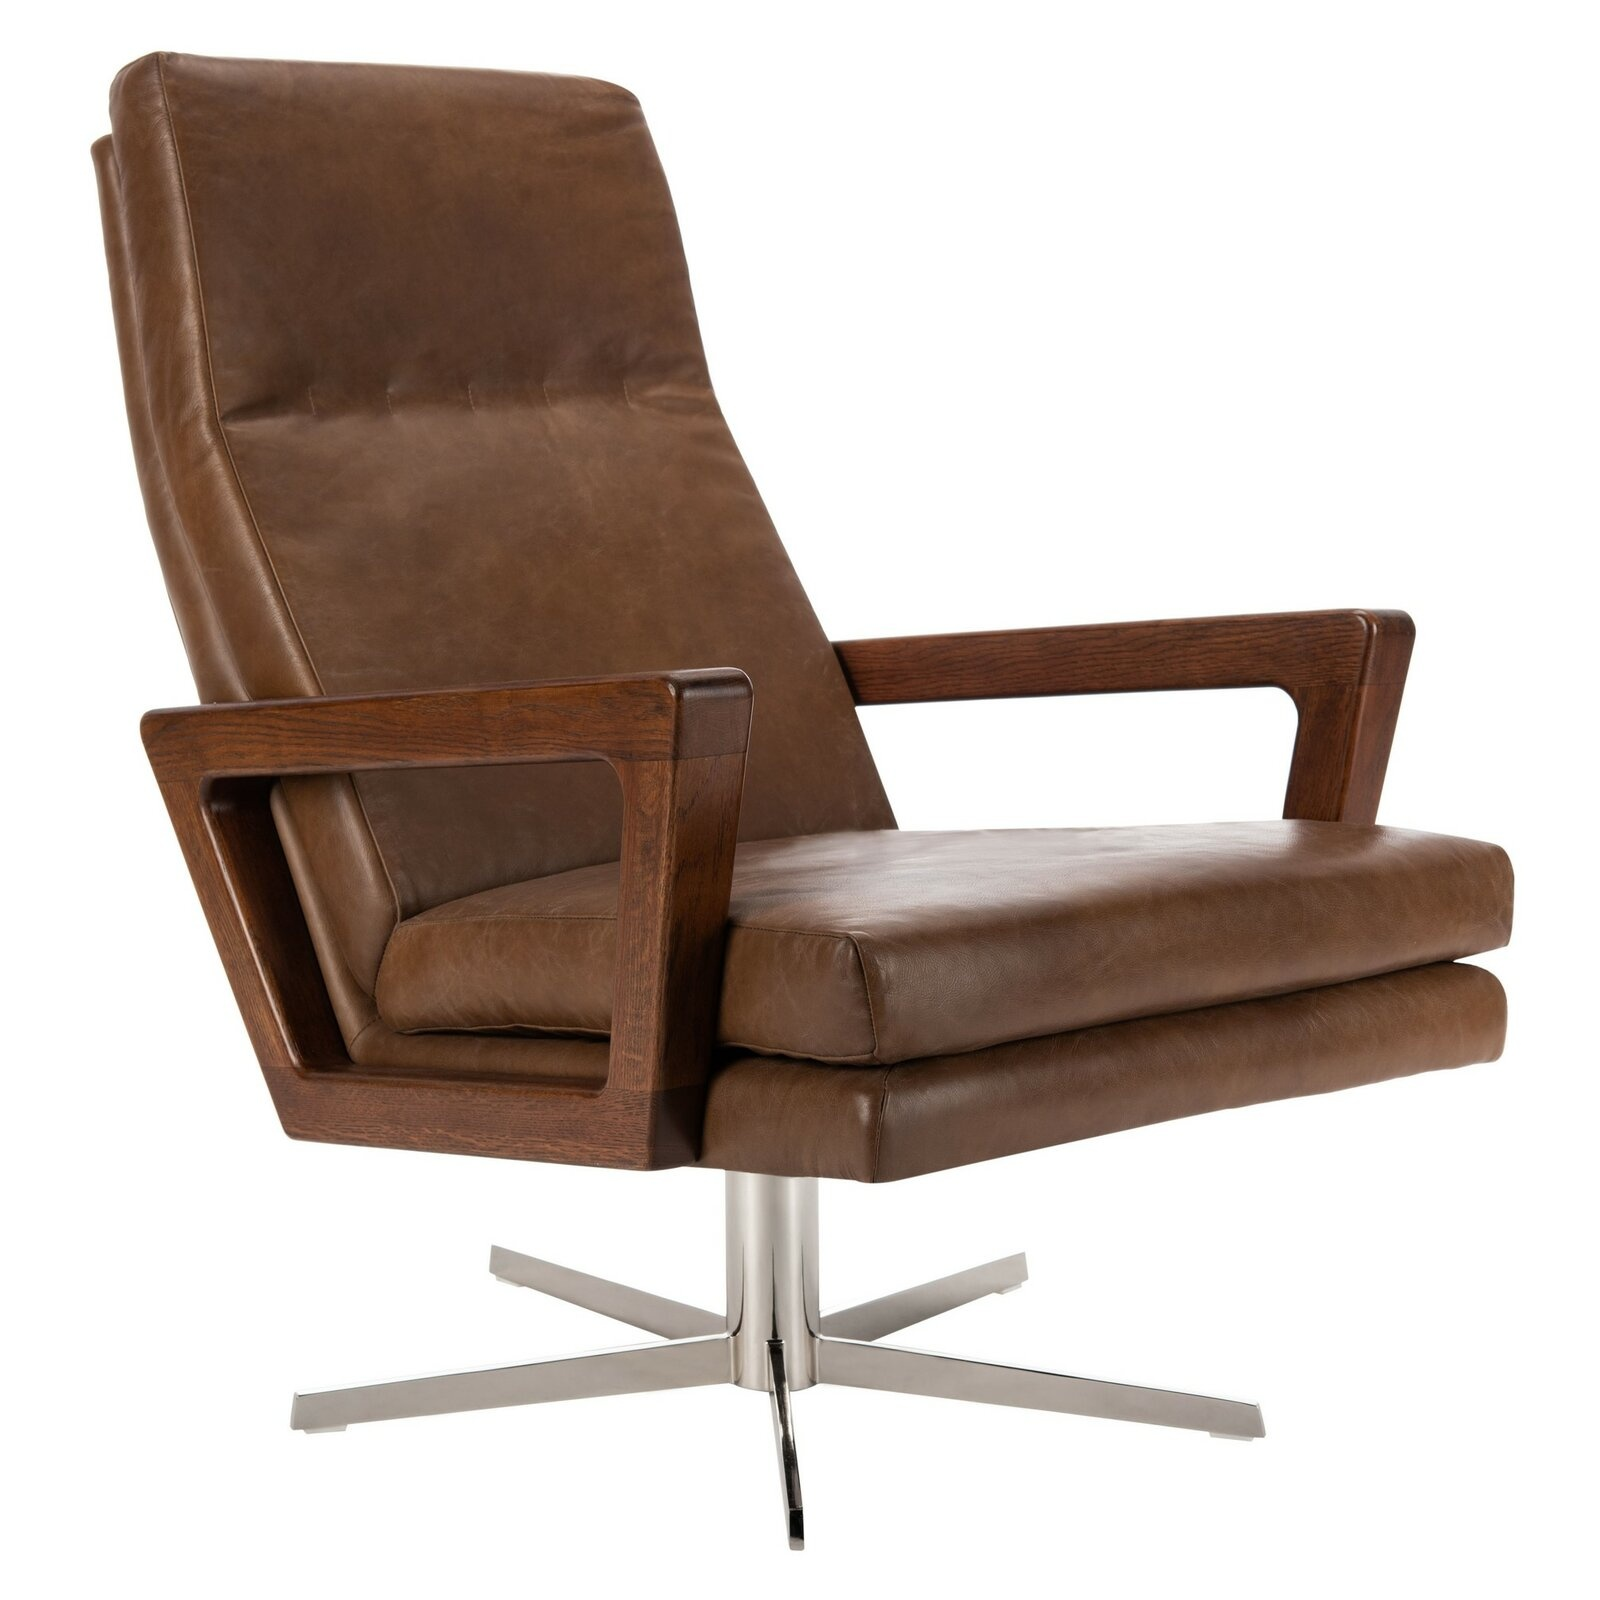obstacle: (95, 56, 1511, 1541)
